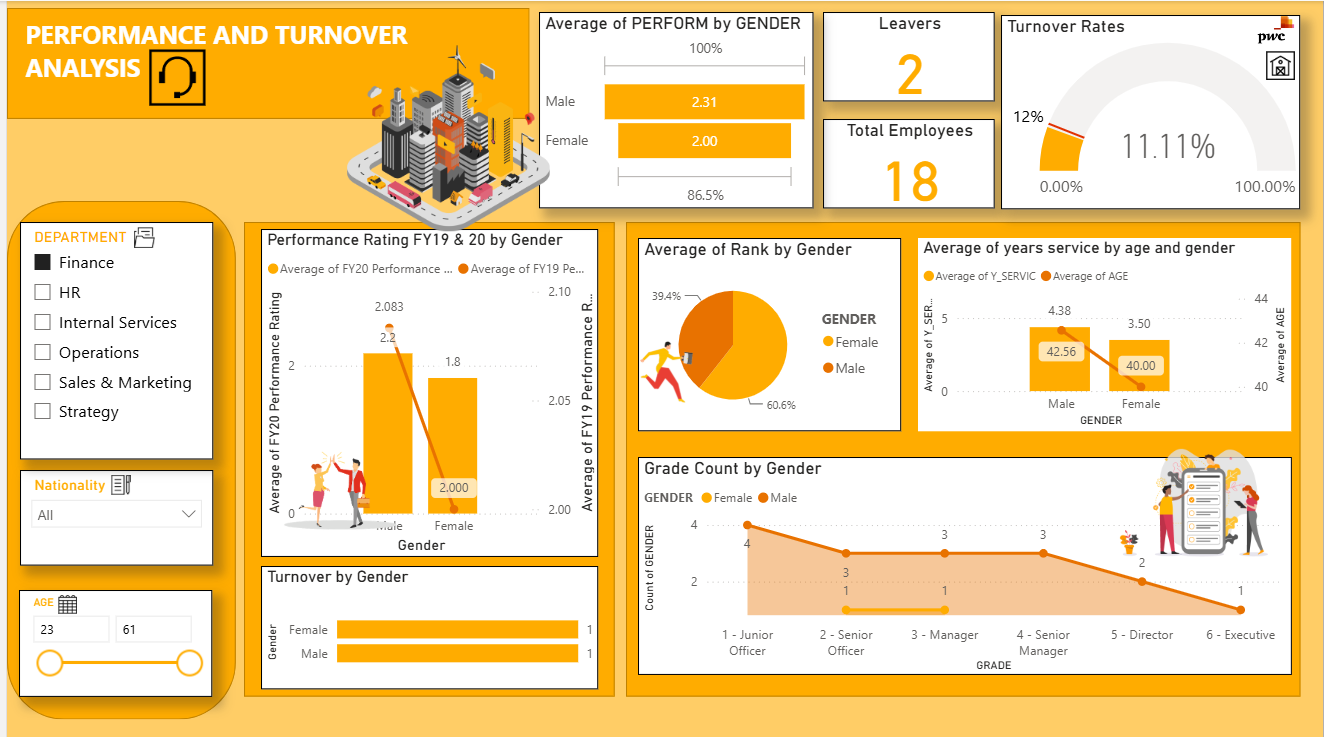

The dashboard page shown, as its layout file describes it:
{"tool":"powerbi","page":{"name":"Performance&Turnover","canvas":[1280,720],"ordinal":2},"visuals":[{"type":"shape","box":[0,194.4,222.6,504.4],"z":0},{"type":"shape","box":[230.3,214.8,360.6,461.7],"z":1000},{"type":"card","title":"Leavers ","fields":{"Values":["Backing 1.Turnover Rates"]},"box":[794,10.7,167.2,87],"z":2000},{"type":"card","title":"Total Employees","fields":{"Values":["Backing 1.Total employees"]},"box":[794,114.7,167.2,87.5],"z":3000},{"type":"lineStackedColumnComboChart","title":"Performance Rating FY19 & 20 by Gender","fields":{"Y":["Avg(Pharma Group AG.FY20 Performance Rating)"],"Category":["Pharma Group AG.Gender"],"Y2":["Avg(Pharma Group AG.FY19 Performance Rating)"]},"box":[246.9,221.6,327.5,318.8],"z":4000},{"type":"shape","box":[601.6,214.8,656,461.7],"z":5000},{"type":"barChart","fields":{"Category":["Pharma Group AG.Gender"],"Y":["Backing 1.Turnover"]},"box":[246.9,549.1,327.5,119.5],"z":6000},{"type":"pieChart","title":"Average of Rank  by Gender","fields":{"Category":["Backing 1.GENDER"],"Y":["Avg(Backing 1.Rank 2)"]},"box":[613.3,230.3,255.6,187.6],"z":7000},{"type":"areaChart","title":"Grade Count by Gender","fields":{"Category":["Backing 1.GRADE"],"Y":["CountNonNull(Backing 1.GENDER)"],"Series":["Backing 1.GENDER"]},"box":[613.3,443.2,635.6,211.9],"z":8000},{"type":"lineStackedColumnComboChart","title":"Average of years service by age and gender","fields":{"Category":["Backing 1.GENDER"],"Y":["Avg(Backing 1.Y_SERVIC)"],"Y2":["Avg(Backing 1.AGE)"]},"box":[886.4,230.3,362.5,187.6],"z":9000},{"type":"funnel","fields":{"Category":["Backing 1.GENDER"],"Y":["Avg(Backing 1.PERFORM)"]},"box":[517.1,10.7,267.3,191.5],"z":10000},{"type":"slicer","fields":{"Values":["Backing 1.AGE"]},"box":[11.7,572.5,187.6,104],"z":11000},{"type":"slicer","fields":{"Values":["Backing 1.Nationality"]},"box":[12.6,455.8,187.6,93.3],"z":12000},{"type":"slicer","fields":{"Values":["Backing 1.FUNCTION"]},"box":[12.6,214.8,187.6,231.3],"z":13000},{"type":"shape","box":[0,6.8,508.3,107.9],"z":14000},{"type":"textbox","box":[12.6,10.7,486.9,100.1],"z":15000},{"type":"gauge","title":"Turnover Rates","fields":{"Y":["Backing 1.Turnover Rates"],"TargetValue":["Min(Backing 1.Target Value)"],"MinValue":["Min(Backing 1.Min Value)"],"MaxValue":["Max(Backing 1.Max)"]},"box":[967,13.6,290.6,188.5],"z":16000},{"type":"image","box":[325.6,36.9,207,193.4],"z":17000},{"type":"image","box":[132.2,41.8,67.1,65.1],"z":18000},{"type":"image","box":[607.4,294.5,66.1,129.3],"z":19000},{"type":"image","box":[1068.1,423.8,191.5,129.3],"z":20000},{"type":"image","box":[254.6,423.8,136.1,105],"z":21000},{"type":"image","box":[0,572.5,118.6,28.2],"z":22000},{"type":"image","box":[87.5,455.8,47.6,29.2],"z":23000},{"type":"image","box":[118.6,207,30.1,45.7],"z":24000},{"type":"image","box":[1187.6,0,92.4,56.4],"z":25000},{"type":"image","box":[1219.7,41.8,37.9,42.8],"z":26000}]}

Visuals, with their boxes in screenshot pixels (x1, y1, x2, y2), scaled from the page's 1280x720 canvas onto the 1324x737 screenshot:
shape: left=0, top=199, right=230, bottom=715
shape: left=238, top=220, right=611, bottom=692
"Leavers " card: left=821, top=11, right=994, bottom=100
"Total Employees" card: left=821, top=117, right=994, bottom=207
"Performance Rating FY19 & 20 by Gender" lineStackedColumnComboChart: left=255, top=227, right=594, bottom=553
shape: left=622, top=220, right=1301, bottom=692
barChart - Pharma Group AG.Gender x Backing 1.Turnover: left=255, top=562, right=594, bottom=684
"Average of Rank  by Gender" pieChart: left=634, top=236, right=899, bottom=428
"Grade Count by Gender" areaChart: left=634, top=454, right=1292, bottom=671
"Average of years service by age and gender" lineStackedColumnComboChart: left=917, top=236, right=1292, bottom=428
funnel - Backing 1.GENDER x Avg(Backing 1.PERFORM): left=535, top=11, right=811, bottom=207
slicer - Backing 1.AGE: left=12, top=586, right=206, bottom=692
slicer - Backing 1.Nationality: left=13, top=467, right=207, bottom=562
slicer - Backing 1.FUNCTION: left=13, top=220, right=207, bottom=457
shape: left=0, top=7, right=526, bottom=117
textbox: left=13, top=11, right=517, bottom=113
"Turnover Rates" gauge: left=1000, top=14, right=1301, bottom=207
image: left=337, top=38, right=551, bottom=236
image: left=137, top=43, right=206, bottom=109
image: left=628, top=301, right=697, bottom=434
image: left=1105, top=434, right=1303, bottom=566
image: left=263, top=434, right=404, bottom=541
image: left=0, top=586, right=123, bottom=615
image: left=91, top=467, right=140, bottom=496
image: left=123, top=212, right=154, bottom=259
image: left=1228, top=0, right=1323, bottom=58
image: left=1262, top=43, right=1301, bottom=87
